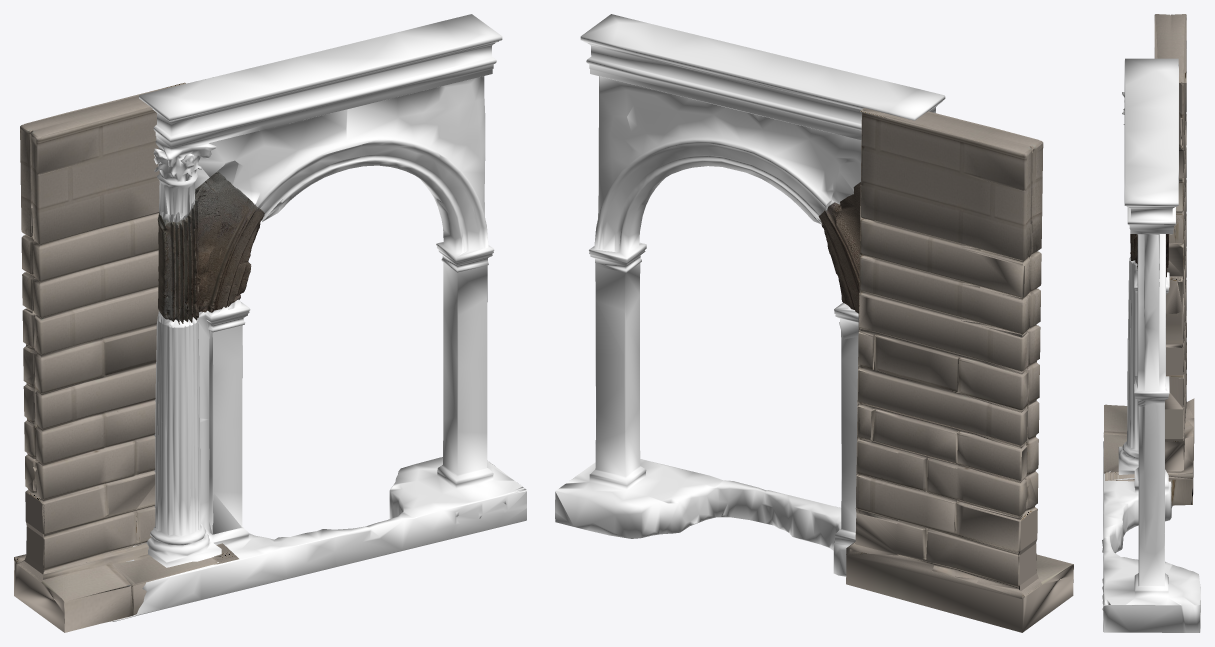
Rendered from arcageo.glb.
3 renders of one model, left to right at view 1: azimuth 30°, elevation 25°; view 2: azimuth 150°, elevation 25°; view 3: azimuth 270°, elevation 25°, orthographic. The views are drawn at different scales.
Visible parts, largest first — view 1: arca; view 2: arca; view 3: arca.
Boxes of the visible parts, x1,y1,x2,y2 form: arca: (14, 14, 526, 632); arca: (555, 14, 1073, 632); arca: (1102, 14, 1200, 632).
Size of the model in its own units: 5.71 by 5.65 by 1.19.
Materials: 4 (3 with a texture image).
